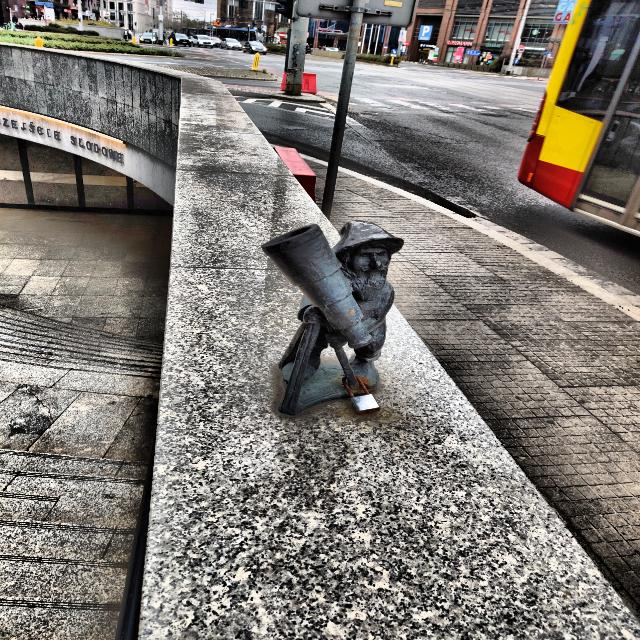Lunetyk: (262, 221, 403, 415)
